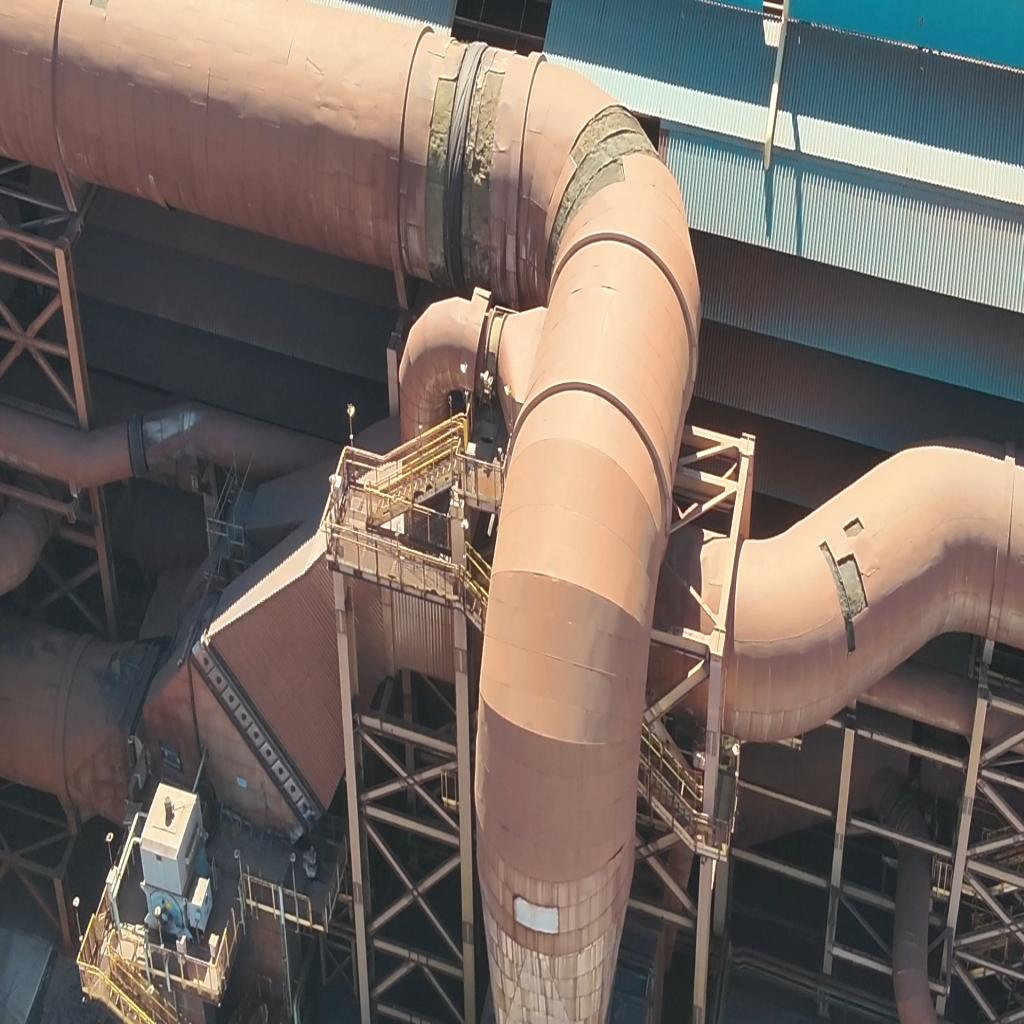Failures: (540, 103, 666, 251), (408, 74, 452, 280), (462, 68, 500, 278), (814, 542, 876, 656), (844, 504, 864, 541)
